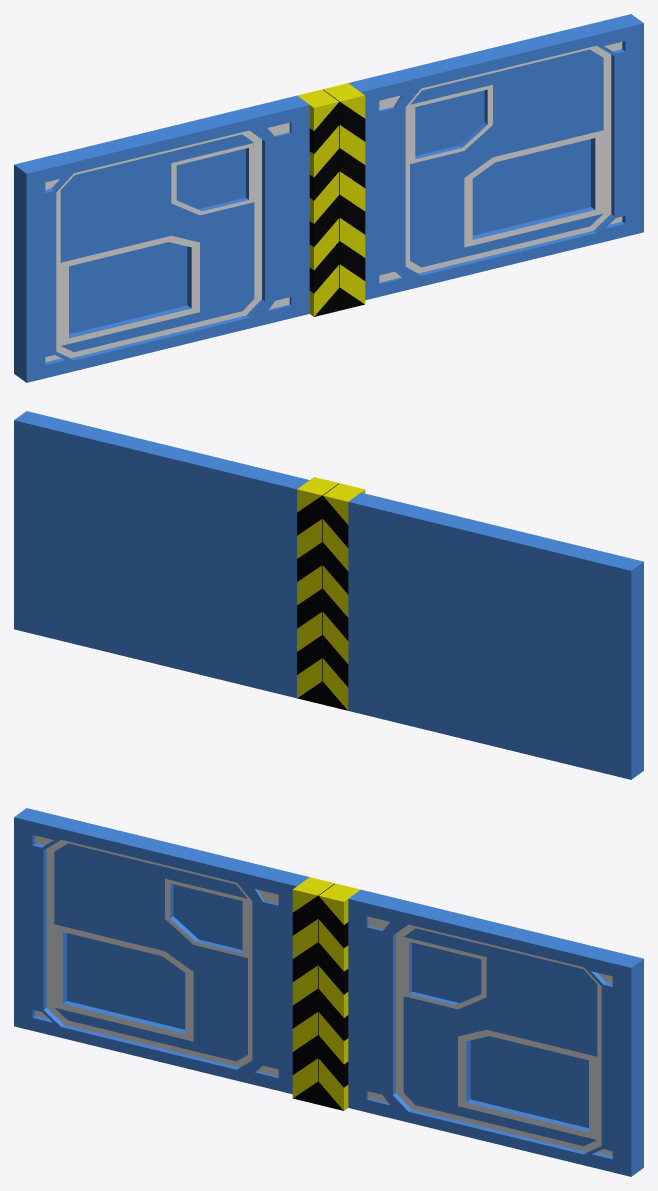
Rendered from Modelo.fbx.
3 renders of one model, top to bottom at view 1: azimuth 30°, elevation 25°; view 2: azimuth 150°, elevation 25°; view 3: azimuth 330°, elevation 25°, orthographic.
Visible parts, largest first — view 1: PuertaIzquierda, PuertaDerecha; view 2: PuertaIzquierda, PuertaDerecha; view 3: PuertaDerecha, PuertaIzquierda.
Part boxes in pixels (bbox=[...]): PuertaIzquierda: bbox=[14, 89, 339, 382]; PuertaDerecha: bbox=[323, 14, 643, 310]; PuertaIzquierda: bbox=[323, 483, 643, 779]; PuertaDerecha: bbox=[14, 411, 339, 704]; PuertaDerecha: bbox=[318, 883, 643, 1176]; PuertaIzquierda: bbox=[14, 808, 334, 1104].
Size of the model in its own units: 618 by 200 by 29.41.
